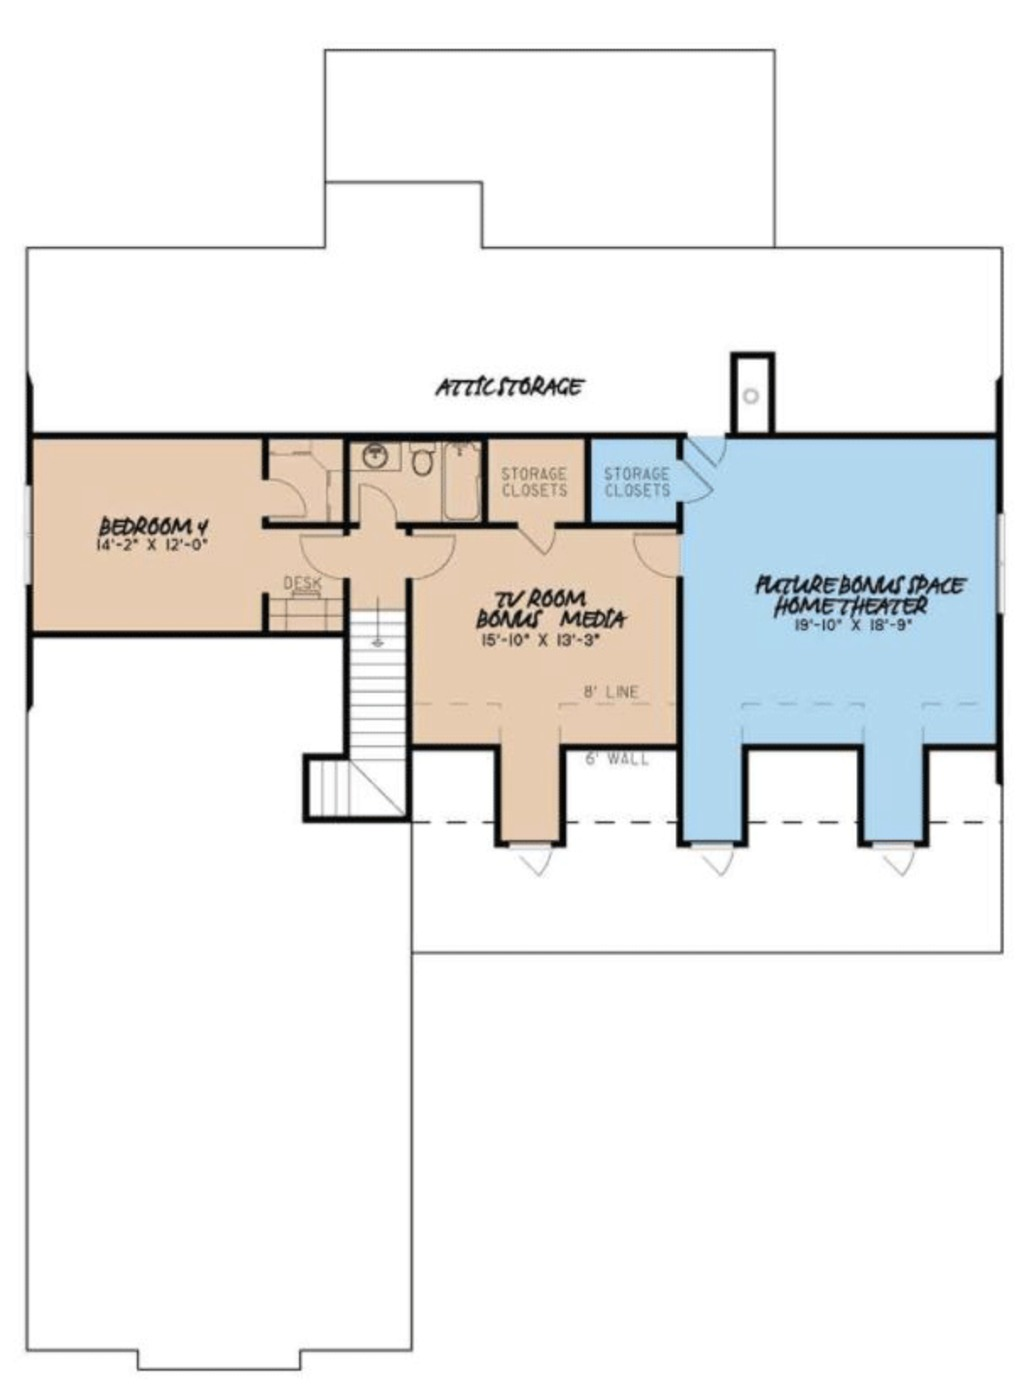door: (631, 519, 693, 589), (291, 527, 355, 588), (349, 482, 414, 536), (510, 512, 566, 570), (404, 529, 459, 585), (676, 455, 725, 517), (257, 472, 310, 525), (687, 834, 740, 882), (510, 827, 555, 876), (878, 842, 914, 880)
large_sink: (406, 442, 434, 478)
small_sink: (351, 429, 410, 470)
stairs: (200, 602, 419, 836)
tub: (437, 436, 485, 527)
window: (17, 485, 44, 588), (993, 507, 1012, 617)
